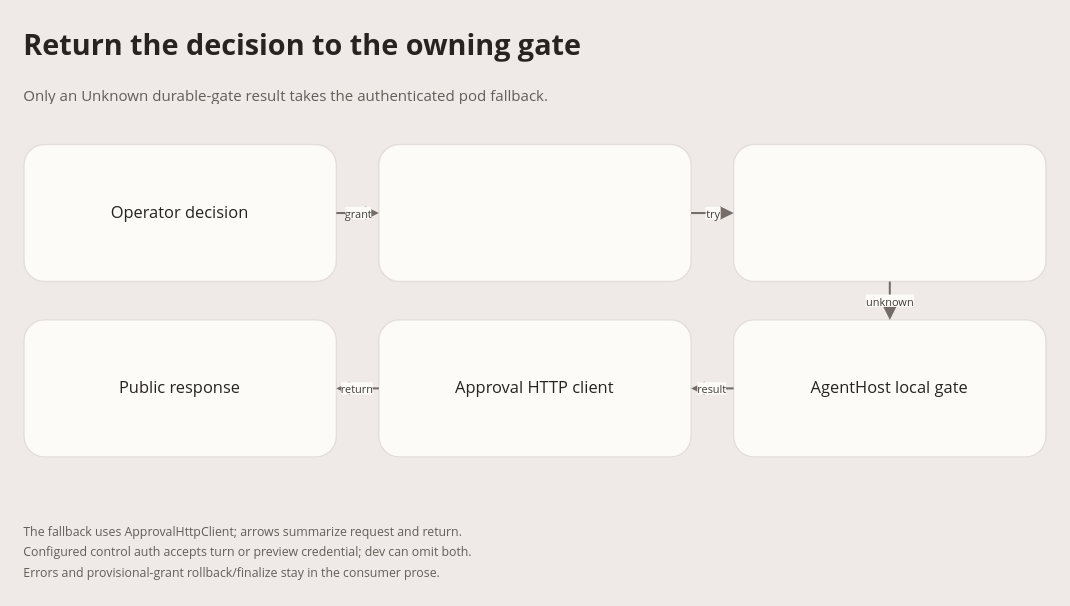
This 1070x606 diagram has some shape labels left out. Here are the shapes that lost their labels. From the top down, the centre of each, then its label:
(534,212): API approval endpoint
(889,212): Durable gate
